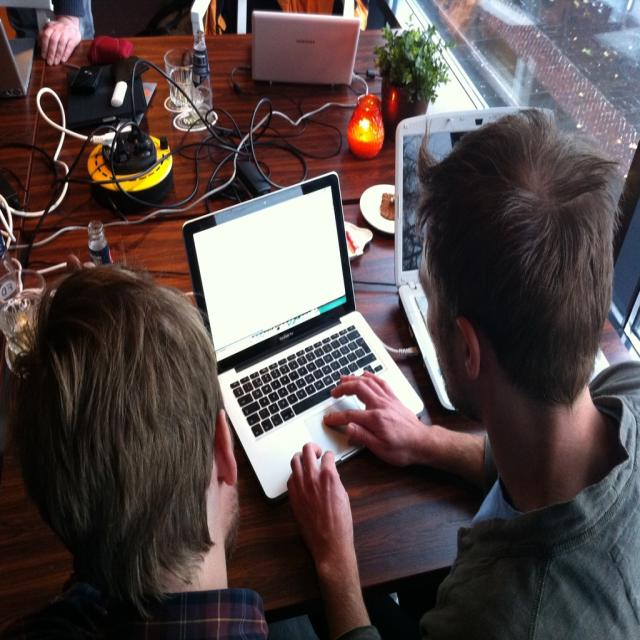desk: (0, 33, 639, 639)
laptop: (182, 170, 425, 502), (378, 104, 630, 420), (251, 12, 362, 87), (0, 18, 36, 98)
person: (256, 117, 635, 632), (6, 263, 390, 636)
